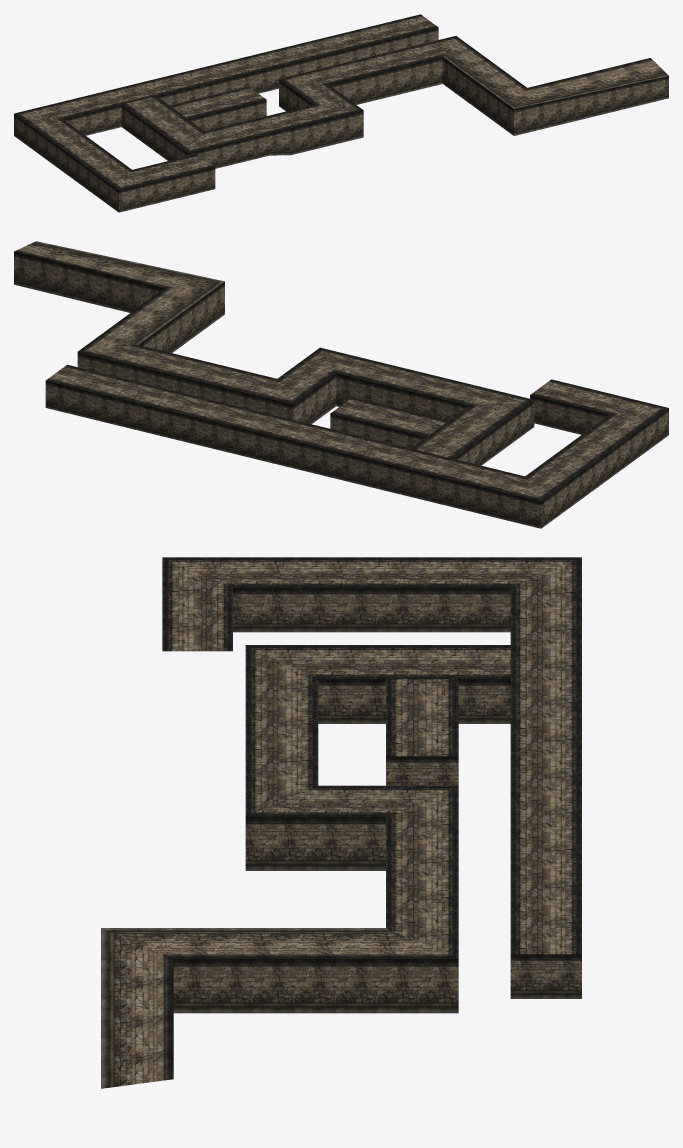
File: Old_PhoenixCastle_Hallway_destruct_wall01.FBX
The picture shows the model from 3 angles, top to bottom: view 1: azimuth 30°, elevation 25°; view 2: azimuth 150°, elevation 25°; view 3: azimuth 270°, elevation 25°; orthographic projection. The views are drawn at different scales.
Parts seen in each view (by area): view 1: Object011; view 2: Object011; view 3: Object011.
Part boxes in pixels (box(x1,y1,x2,y2)): Object011: box(14, 14, 668, 212); Object011: box(14, 241, 668, 528); Object011: box(101, 557, 581, 1088).
Bounding box in the file's own units: 11863 × 576 × 4622.
Materials: 2 (2 with a texture image).
